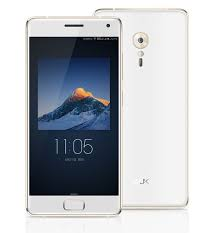lenovo: (20, 12, 123, 220)
